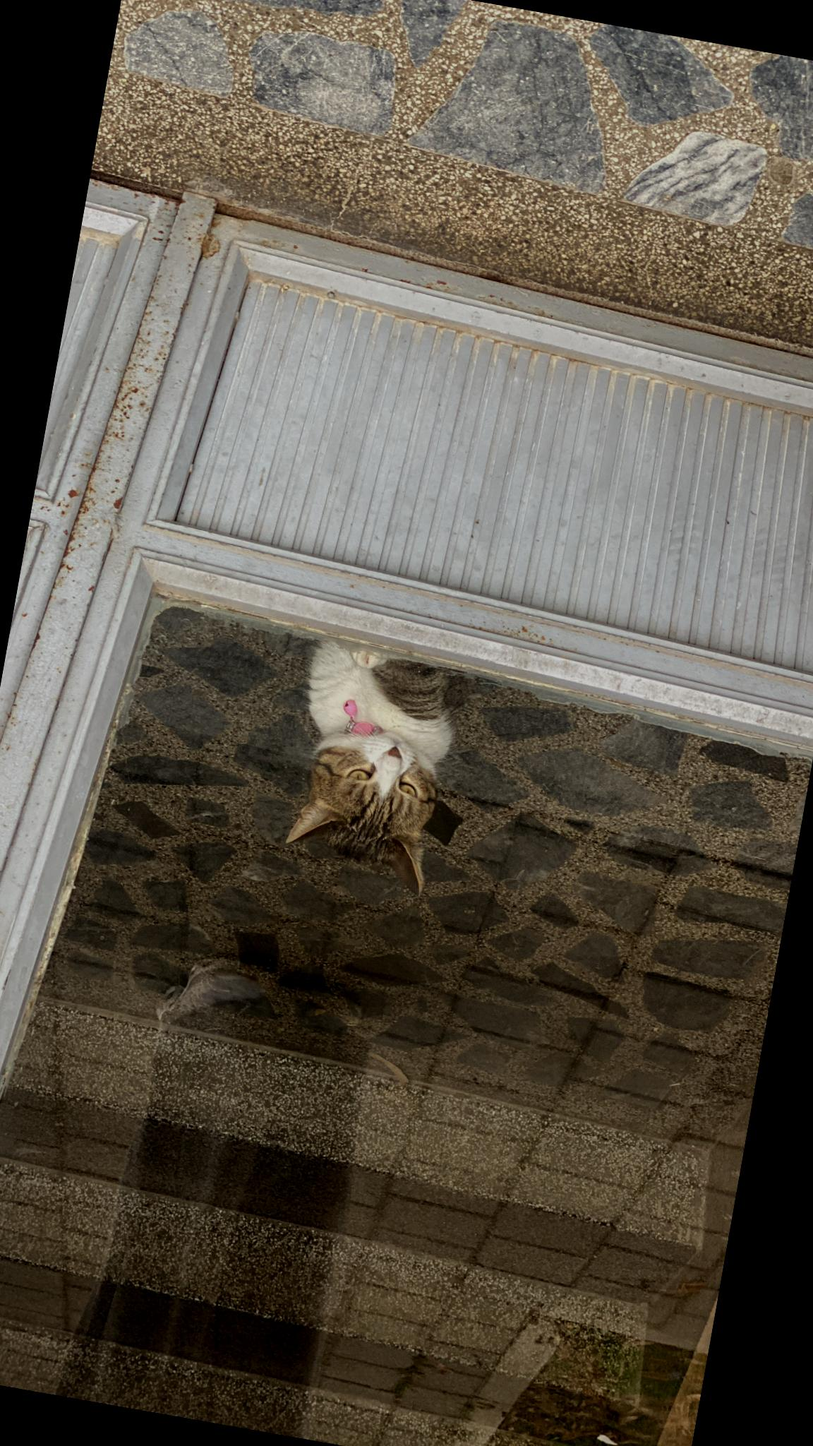macka: (276, 644, 464, 897)
